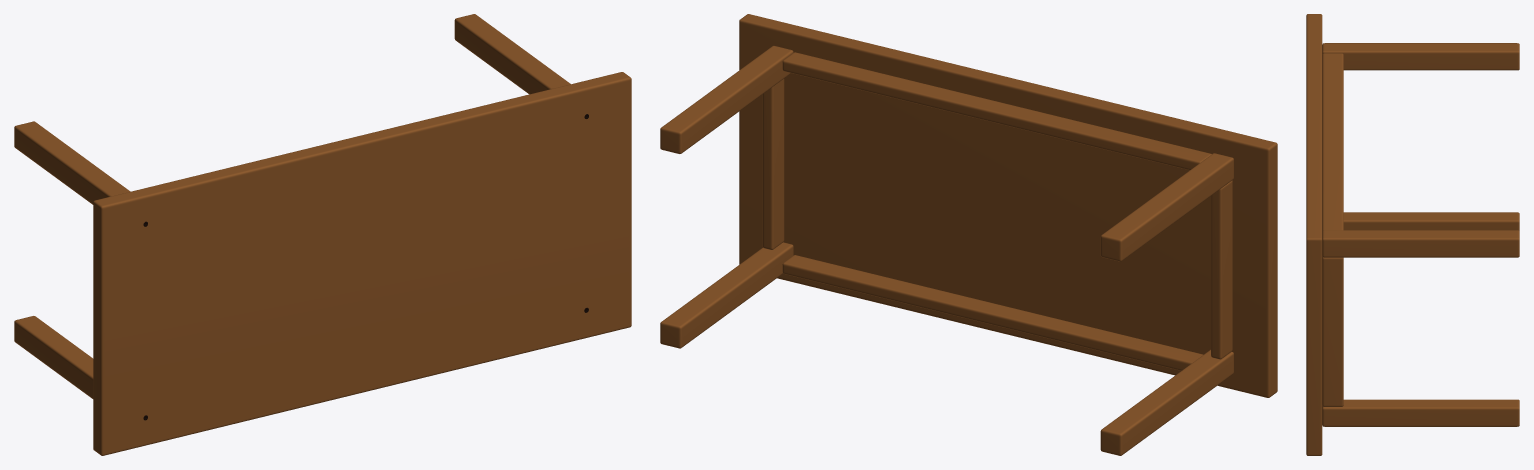
Rendered from Tavolo_in_legno_di_recupero.fbx.
The picture shows the model from 3 angles, left to right: view 1: azimuth 30°, elevation 25°; view 2: azimuth 150°, elevation 25°; view 3: azimuth 270°, elevation 25°; orthographic projection. The views are drawn at different scales.
Parts seen in each view (by area): view 1: Cubo_09; view 2: Cubo_09; view 3: Cubo_09.
Part boxes in pixels (x1,y1,x2,y2): Cubo_09: (14, 14, 631, 455); Cubo_09: (660, 14, 1277, 455); Cubo_09: (1306, 14, 1519, 455).
Size of the model in its own units: 2 by 0.9 by 0.8006.
